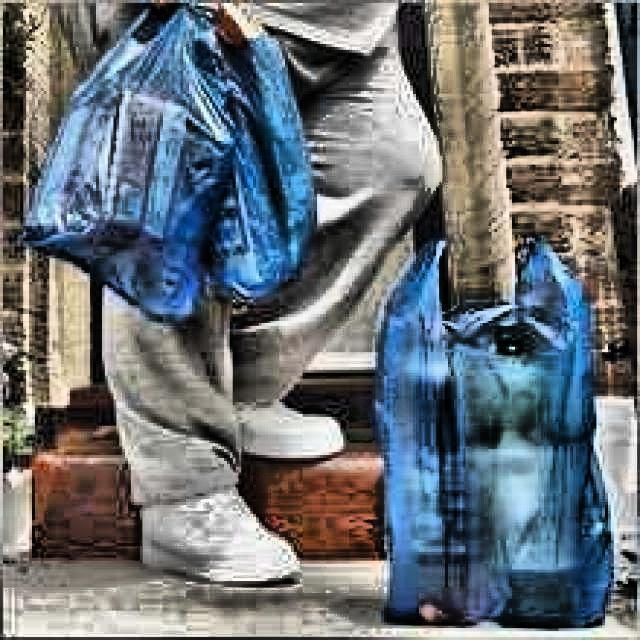Anorganik: (356, 232, 627, 634), (30, 23, 236, 342), (199, 30, 311, 307)
